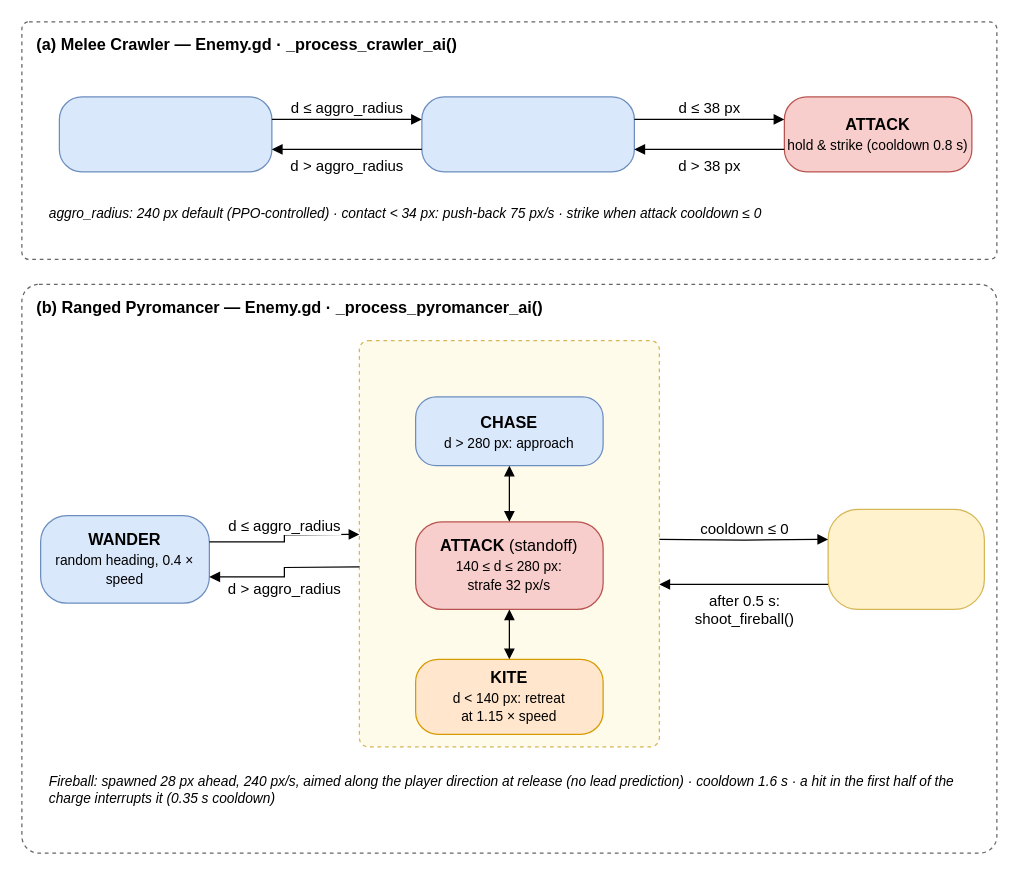
The diagram is 1019 pixels wide and 875 high, and some of its shapes have lost their labels. Here are the shapes that lost their labels. From the top down, the box of each, then its label:
(58, 96, 272, 172): WANDER random heading, 0.45 × speed
(421, 96, 634, 172): CHASE move toward player at speed
(358, 339, 659, 747): Player within aggro_radius
(827, 508, 984, 609): CHARGING 0.5 s telegraph (yellow glow)
